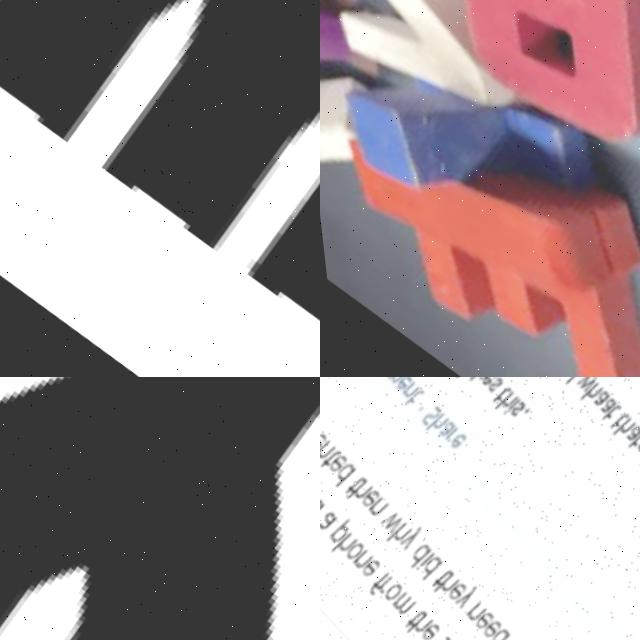A: (372, 0, 640, 198)
E: (342, 148, 640, 377)
W: (0, 0, 320, 377)
Y: (0, 377, 320, 640)
Z: (320, 0, 595, 171)
